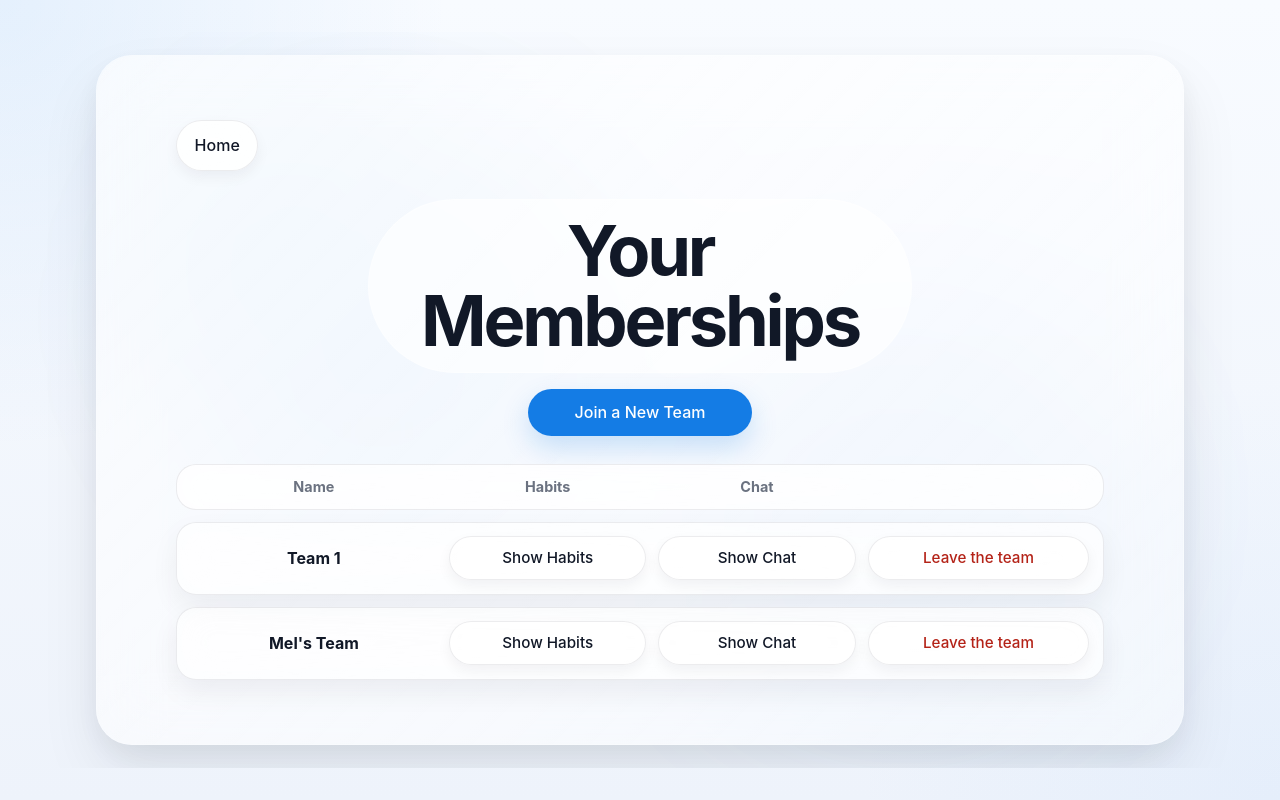
on leave with confirmation removes team from list
Expected: the text "Team 1" is shown, top-left (287, 548), bottom-right (341, 568)
Expected: the text "Mel's Team" is shown, top-left (269, 633), bottom-right (359, 653)
What coordinates should you click on to do the following:
click the button "Leave the team" in the row of "Mel's Team"
I would click on:
 (978, 643)
Its box is top-left (868, 621), bottom-right (1089, 665).
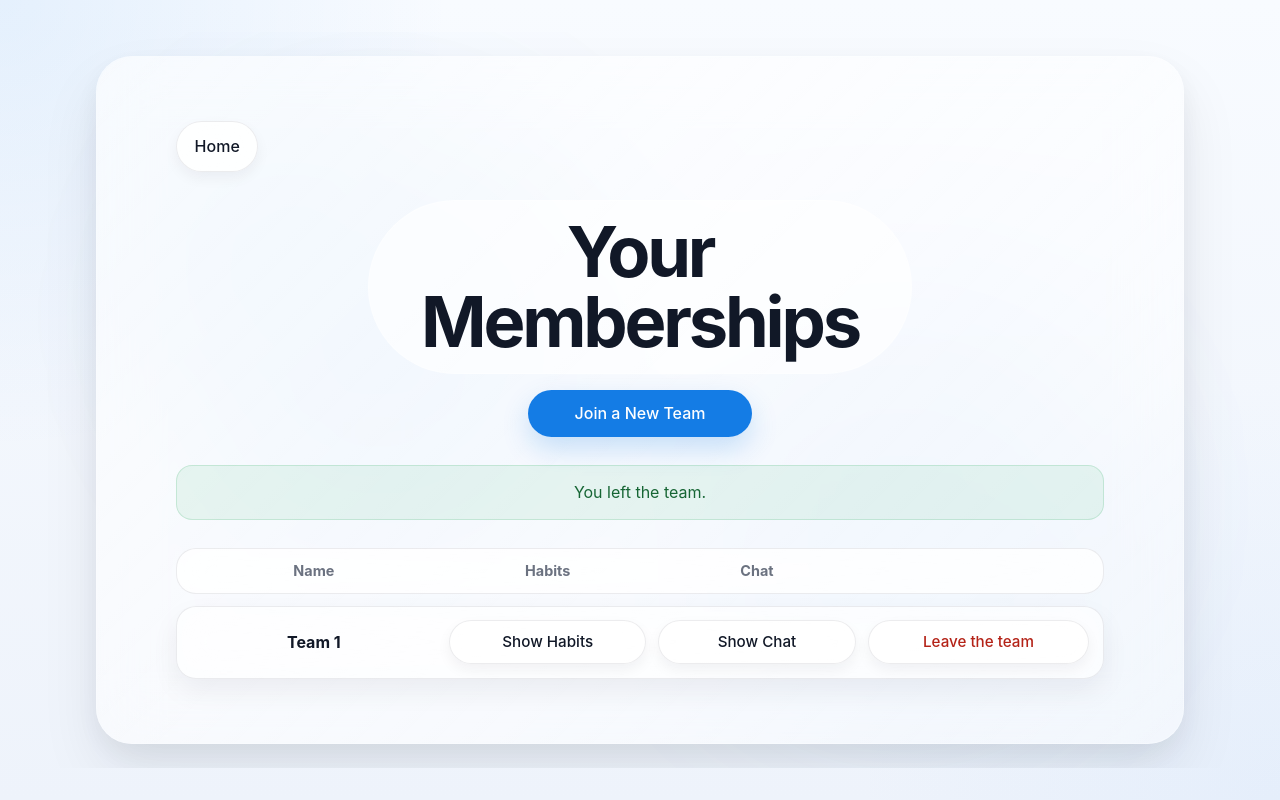
Expected: the text "Team 1" is shown, top-left (287, 632), bottom-right (341, 652)
Now the text "Mel's Team" is gone
